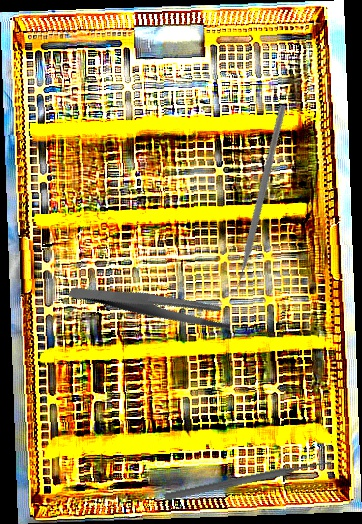Chopper: (170, 103, 337, 299)
Dressing Forceps: (67, 246, 236, 364)
Pusher: (163, 456, 335, 503)
